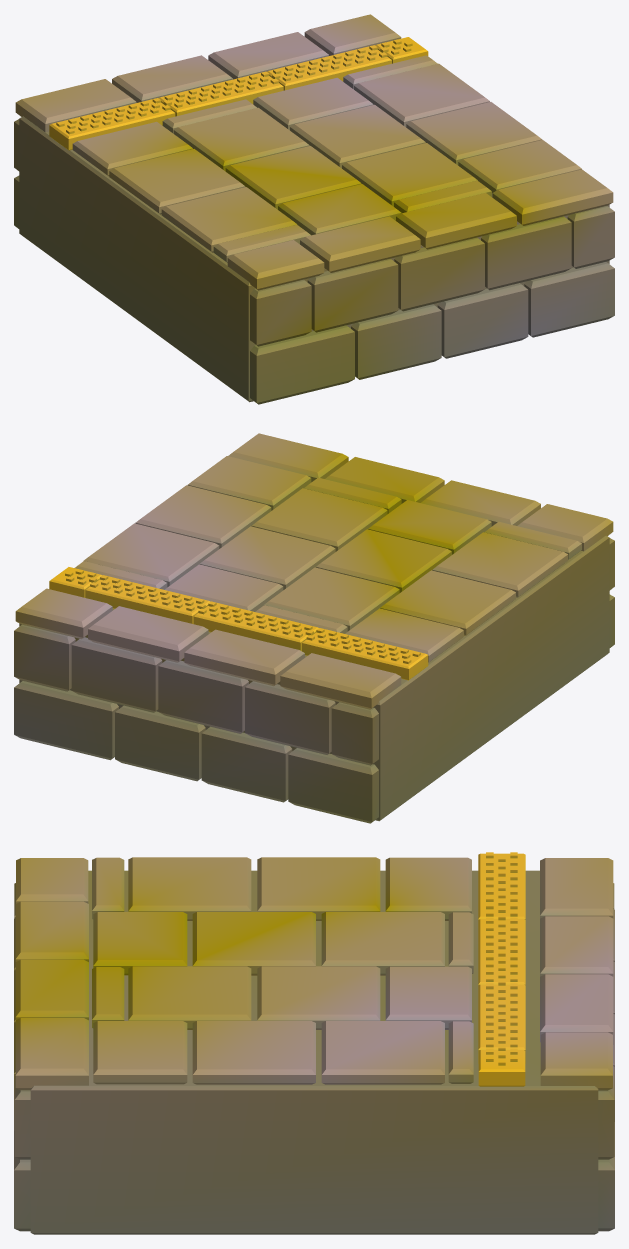
The model's file is Platform_Straight_3m.glb.
The picture shows the model from 3 angles, top to bottom: view 1: azimuth 30°, elevation 25°; view 2: azimuth 150°, elevation 25°; view 3: azimuth 270°, elevation 25°; orthographic projection. The views are drawn at different scales.
Visible parts, largest first — view 1: Platform_Straight_3m; view 2: Platform_Straight_3m; view 3: Platform_Straight_3m.
Boxes of the visible parts, box(x1,y1,x2,y2) form: Platform_Straight_3m: box(14, 14, 614, 404); Platform_Straight_3m: box(14, 433, 614, 823); Platform_Straight_3m: box(14, 852, 614, 1234).
Bounding box in the file's own units: 3 × 1.08 × 3.49.
